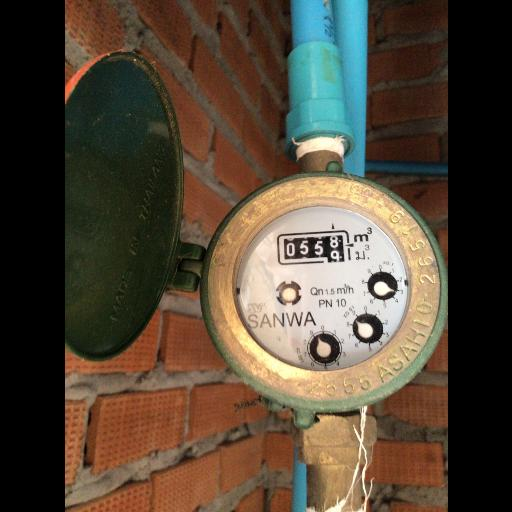0: (283, 237, 298, 259)
5: (309, 236, 327, 259), (297, 237, 312, 260)
8: (326, 235, 344, 263)
border_water_meter_number: (276, 230, 350, 265)
